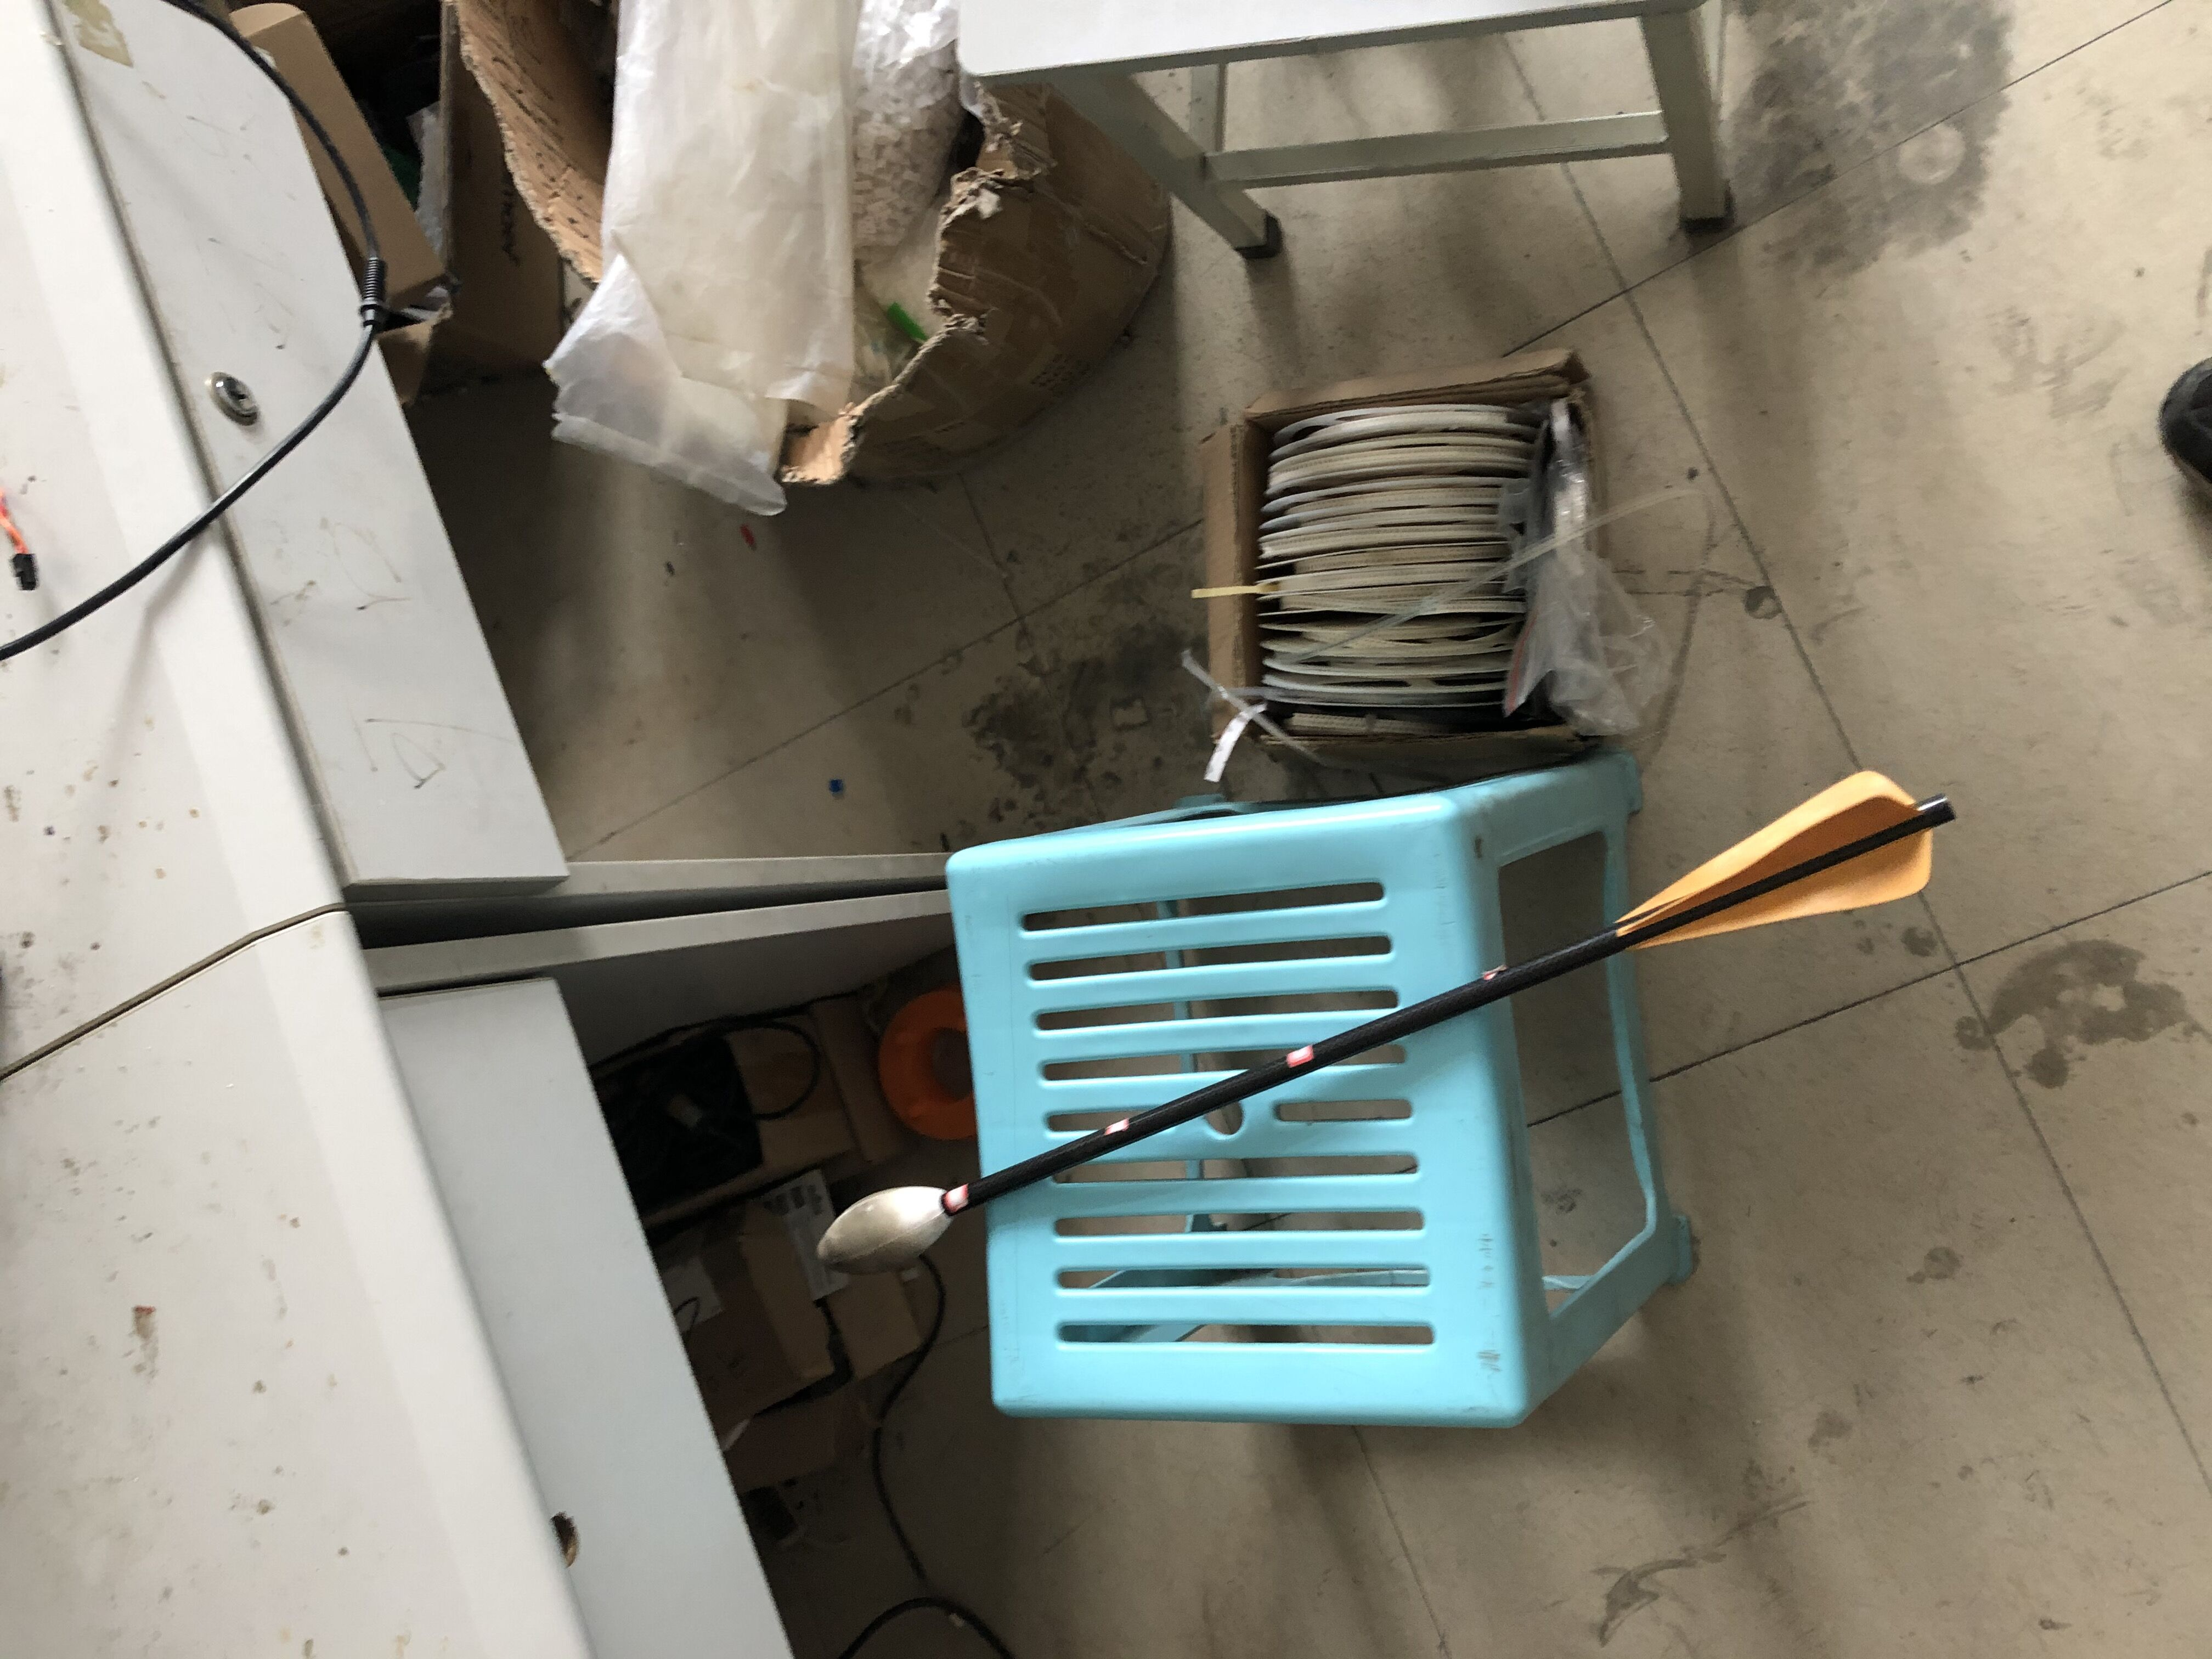arrow: (810, 767, 1961, 1279)
arrowFront: (810, 1182, 961, 1281)
